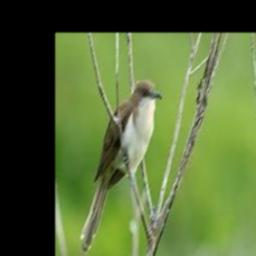Cuckoo: (80, 81, 162, 256)
